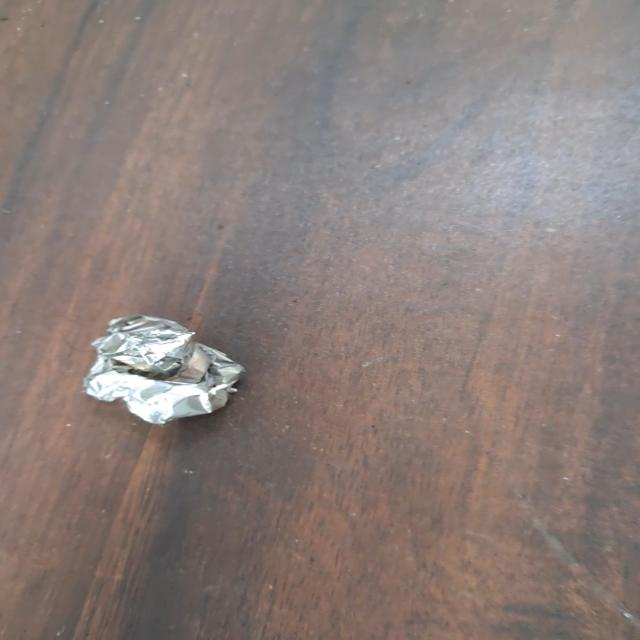Anorganik: (71, 310, 270, 437)
